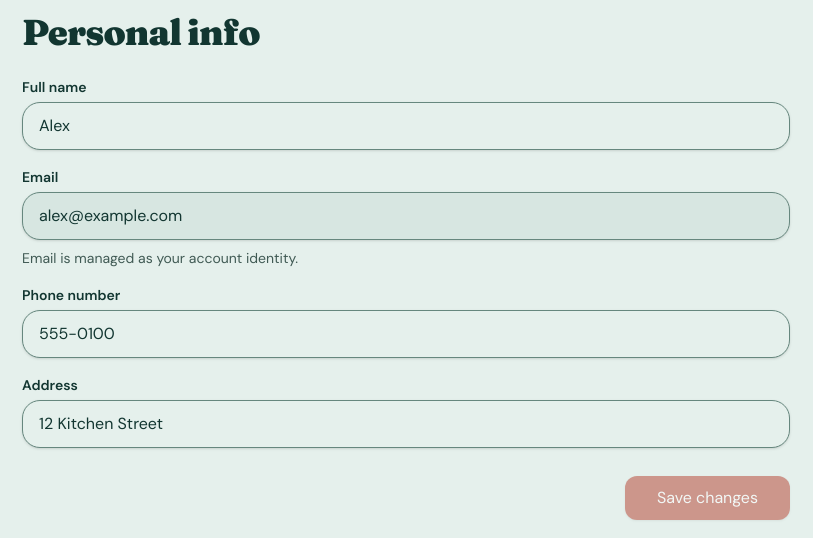
Test: PersonalInfo › restores the last saved values when cancel is pressed
The image size is (813, 538).
Replace the text in the field labelled "Full name" with "Changed": coordinates (406, 126) x1=22 y1=102 x2=790 y2=150
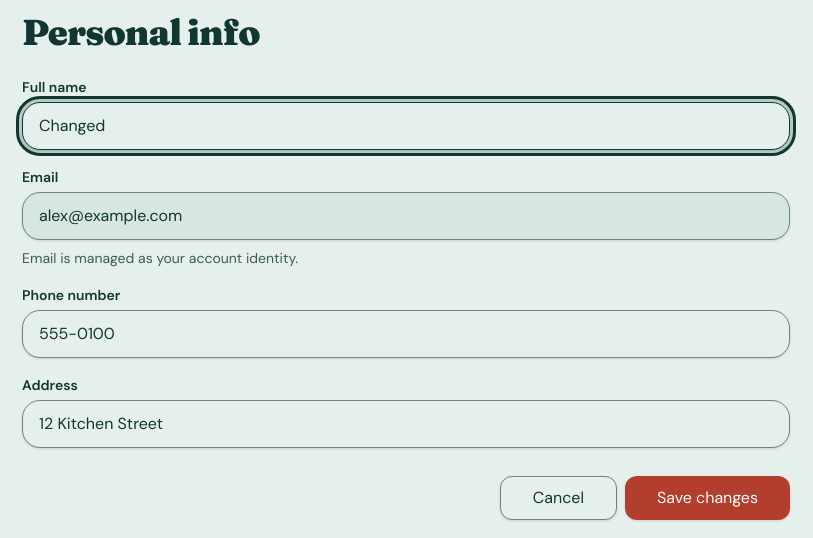
Click the button "Cancel": coordinates (558, 498) x1=500 y1=476 x2=617 y2=520
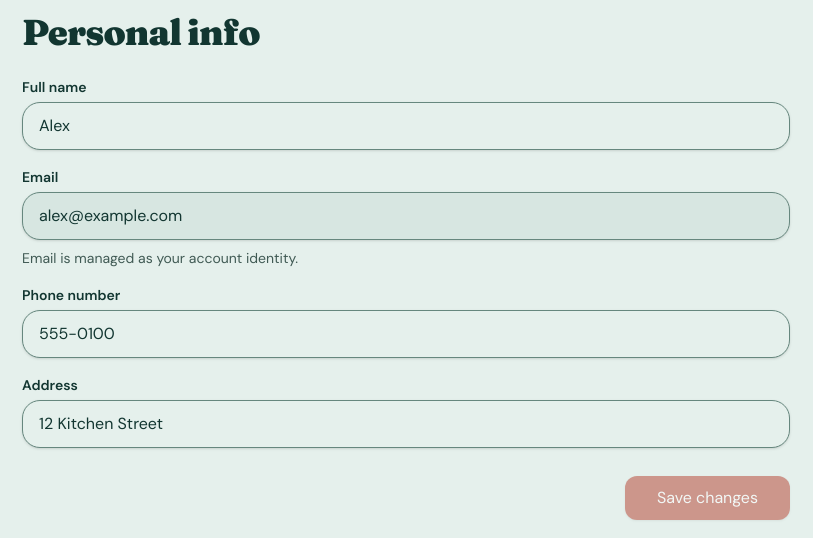
Expected: the field labelled "Full name" holds "Alex", x1=22 y1=102 x2=790 y2=150
Expected: the button "Save changes" is disabled, x1=625 y1=476 x2=790 y2=520
